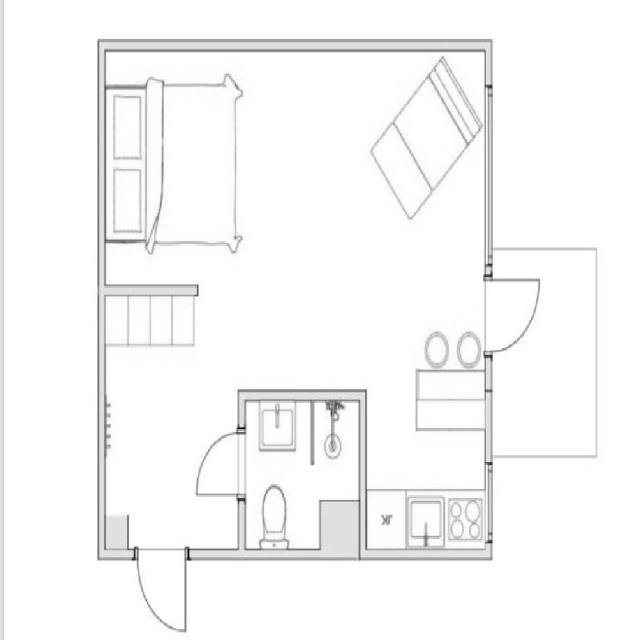door: (483, 270, 543, 356), (133, 542, 188, 633), (190, 424, 245, 500)
window: (484, 84, 495, 268), (482, 456, 497, 543)
zone: (103, 45, 490, 389), (102, 387, 242, 553), (366, 389, 488, 554), (242, 394, 361, 551)
